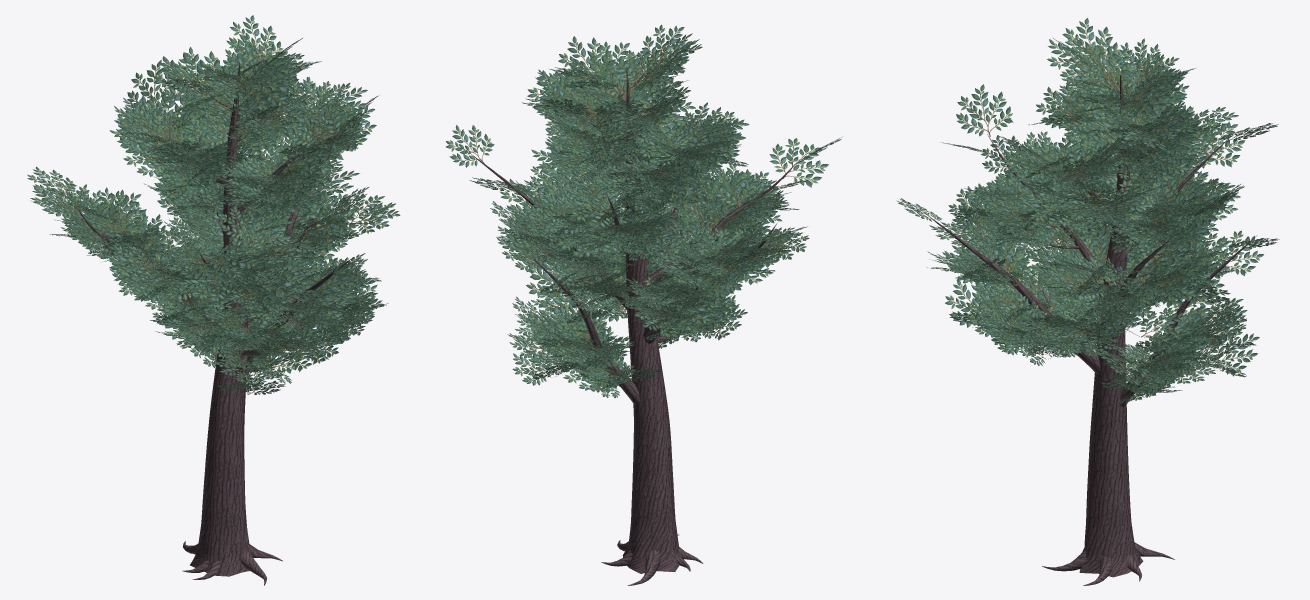
File: corealm_magic_2.glb
3 views of the same model, side by side, from view 1: azimuth 30°, elevation 25°; view 2: azimuth 150°, elevation 25°; view 3: azimuth 270°, elevation 25° (orthographic). The views are drawn at different scales.
Visible parts, largest first — view 1: corealm_magic_2; view 2: corealm_magic_2; view 3: corealm_magic_2.
Boxes of the visible parts, x1,y1,x2,y2 form: corealm_magic_2: (27,15,400,585); corealm_magic_2: (446,24,841,585); corealm_magic_2: (896,18,1279,585).
Size of the model in its own units: 8.18 by 11.17 by 7.82.
2 materials, 2 textured.
